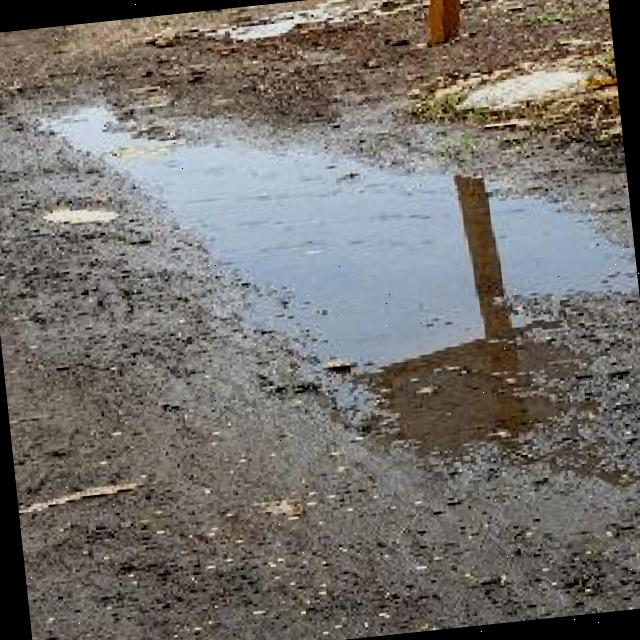stagnation: (1, 76, 640, 499)
